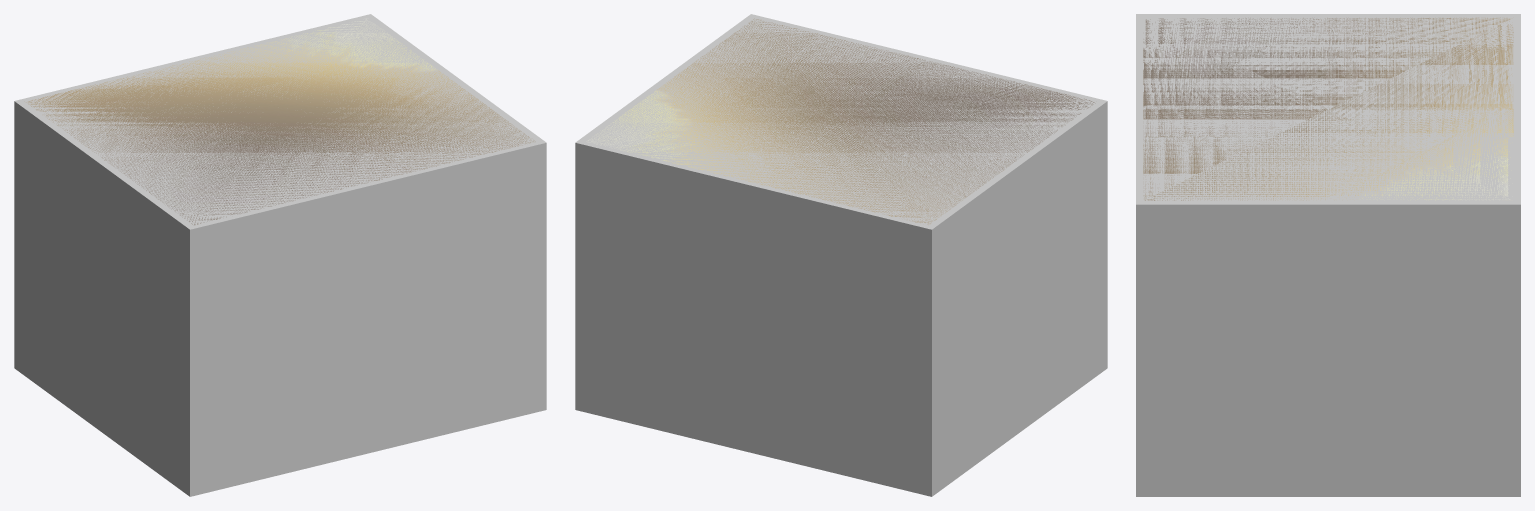
File: skyboxold.fbx
The picture shows the model from 3 angles, left to right: view 1: azimuth 30°, elevation 25°; view 2: azimuth 150°, elevation 25°; view 3: azimuth 270°, elevation 25°; orthographic projection. The views are drawn at different scales.
Parts seen in each view (by area): view 1: Model; view 2: Model; view 3: Model.
Part boxes in pixels (x1,y1,x2,y2): Model: [14, 14, 546, 496]; Model: [575, 14, 1107, 496]; Model: [1136, 14, 1520, 496].
Bounding box in the file's own units: 1430 × 1024 × 1221.
7 materials, 6 textured.
